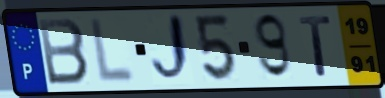5: (192, 11, 240, 84)
9: (251, 12, 294, 83)
B: (35, 17, 91, 87)
J: (149, 11, 195, 87)
L: (89, 16, 138, 86)
T: (297, 14, 334, 79)
